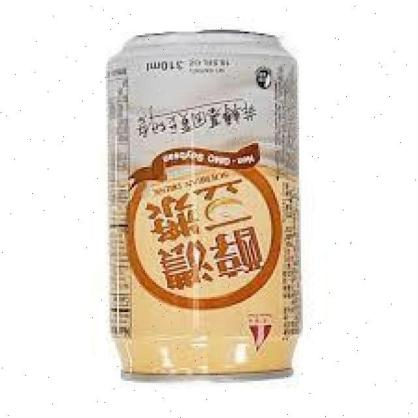can: (105, 27, 301, 384)
